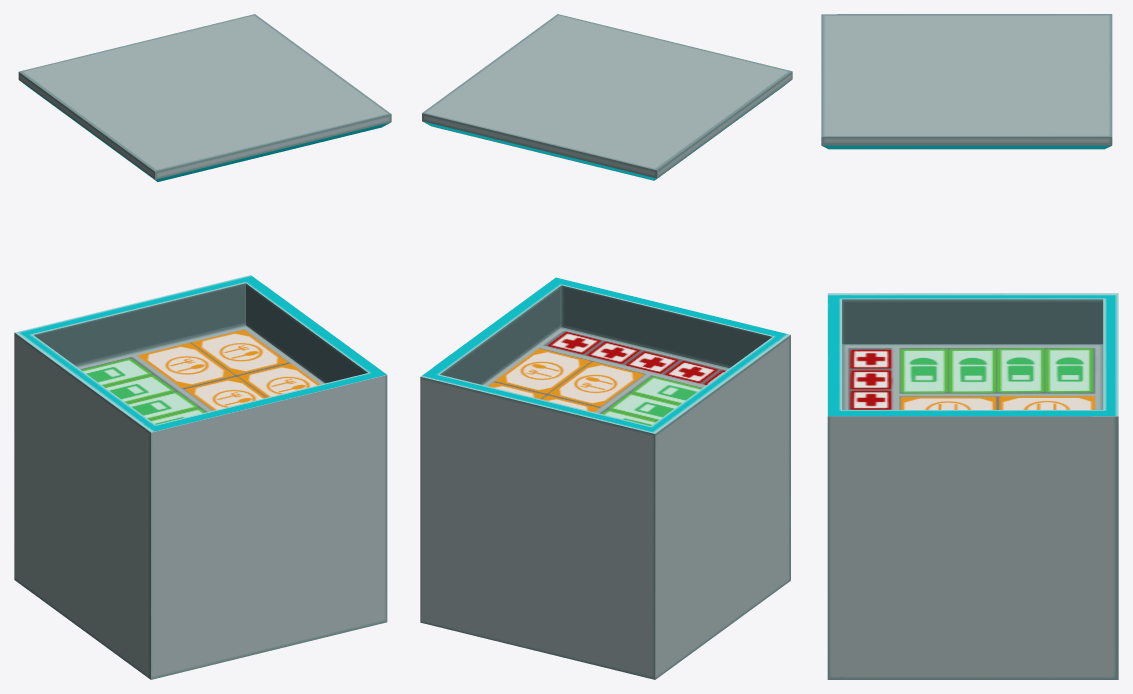
The model's file is Supplybox.fbx.
3 renders of one model, left to right at view 1: azimuth 30°, elevation 25°; view 2: azimuth 150°, elevation 25°; view 3: azimuth 270°, elevation 25°, orthographic. The views are drawn at different scales.
Visible parts, largest first — view 1: Cube; view 2: Cube; view 3: Cube.
Boxes of the visible parts, x1,y1,x2,y2 form: Cube: (14, 14, 391, 679); Cube: (420, 14, 792, 679); Cube: (821, 14, 1118, 679).
Bounding box in the file's own units: 201 × 412 × 204.
Materials: 1 (1 with a texture image).
